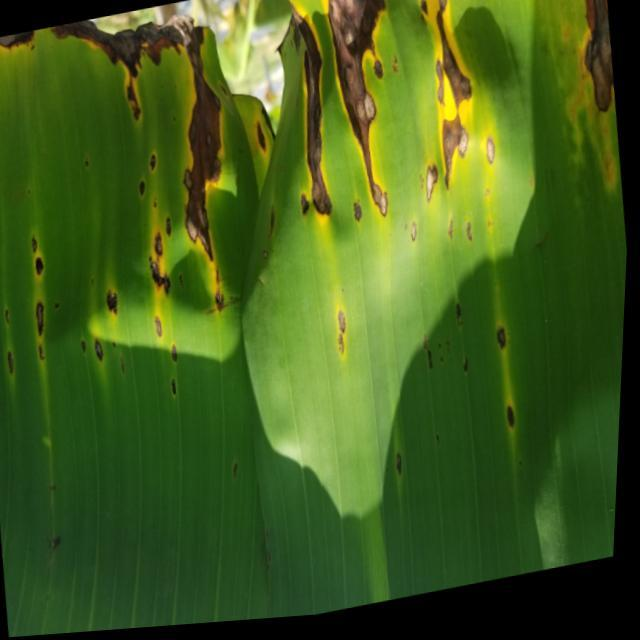Early_rust: (0, 0, 634, 460)
